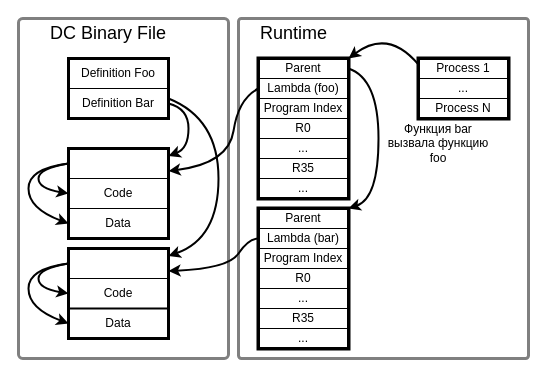
Some shapes in this 547 by 377 pixel diagram are drawn without their labels. Each missing label, with the centre of its shape:
"Descriptor Bar" belongs at [118,263].
"Descriptor Foo" belongs at [118,163].
